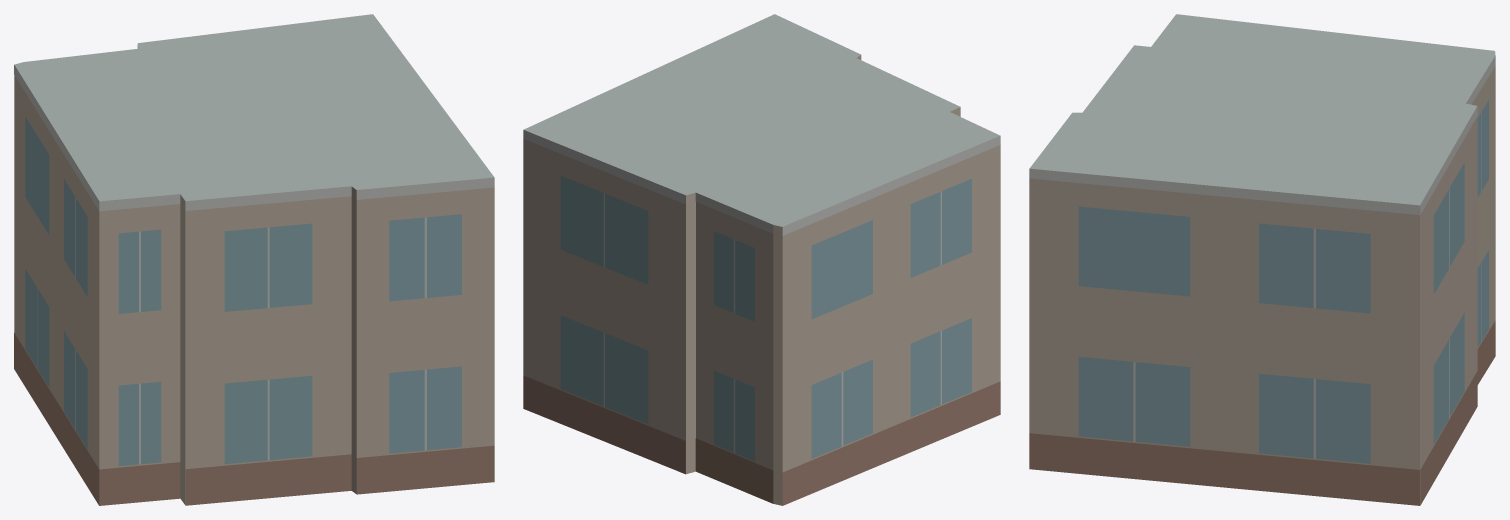
File: survey-upis-32767455.glb
3 views of the same model, side by side, from view 1: azimuth 30°, elevation 25°; view 2: azimuth 150°, elevation 25°; view 3: azimuth 270°, elevation 25° (orthographic). The views are drawn at different scales.
Parts seen in each view (by area): view 1: survey-upis-32767455.tmp; view 2: survey-upis-32767455.tmp; view 3: survey-upis-32767455.tmp.
Boxes of the visible parts, x1,y1,x2,y2 form: survey-upis-32767455.tmp: [14, 14, 494, 505]; survey-upis-32767455.tmp: [523, 14, 1000, 505]; survey-upis-32767455.tmp: [1029, 14, 1495, 505].
Size of the model in its own units: 10.25 by 7.5 by 10.56.
